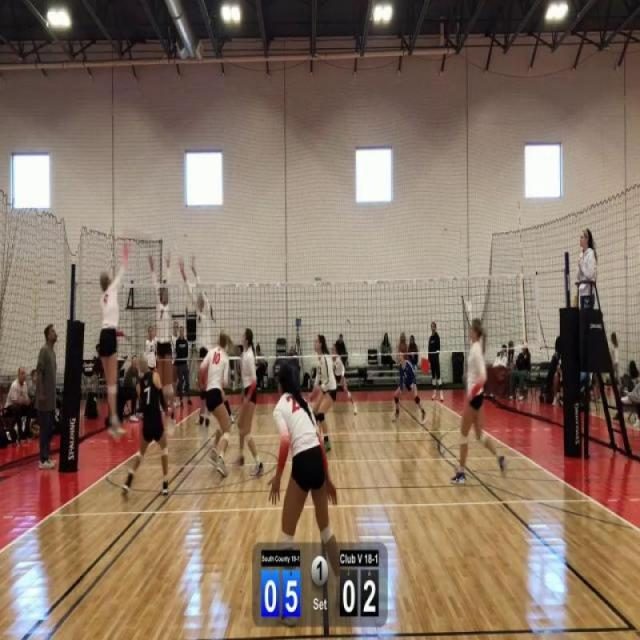volleyball: (128, 227, 156, 248)
